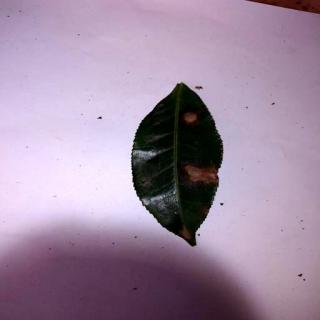Anthracnose: (133, 83, 225, 246)
